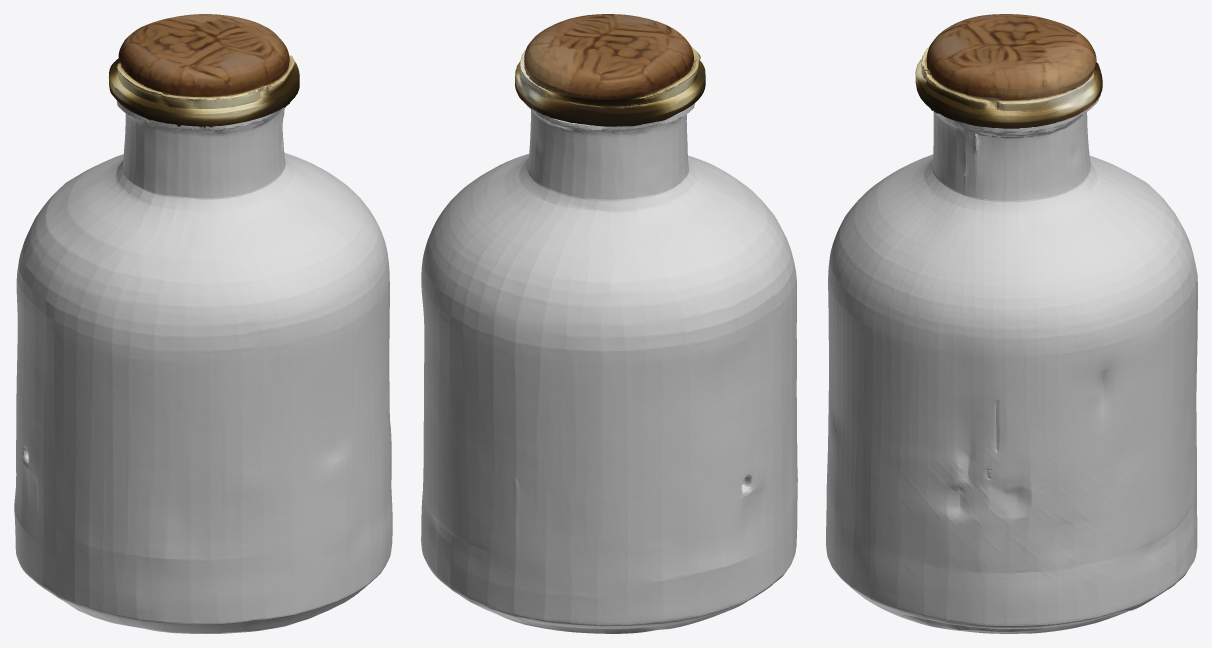
3 views of the same model, side by side, from view 1: azimuth 30°, elevation 25°; view 2: azimuth 150°, elevation 25°; view 3: azimuth 270°, elevation 25° (orthographic).
Parts seen in each view (by area): view 1: 0, 1; view 2: 0, 1; view 3: 0, 1.
Part boxes in pixels (x1,y1,x2,y2): 0: [14, 101, 392, 633]; 1: [108, 14, 299, 127]; 0: [421, 103, 797, 633]; 1: [515, 14, 705, 126]; 0: [826, 95, 1197, 633]; 1: [915, 14, 1102, 128].
Size of the model in its own units: 0.6173 by 0.949 by 0.6093.
Materials: 4 (3 with a texture image).
